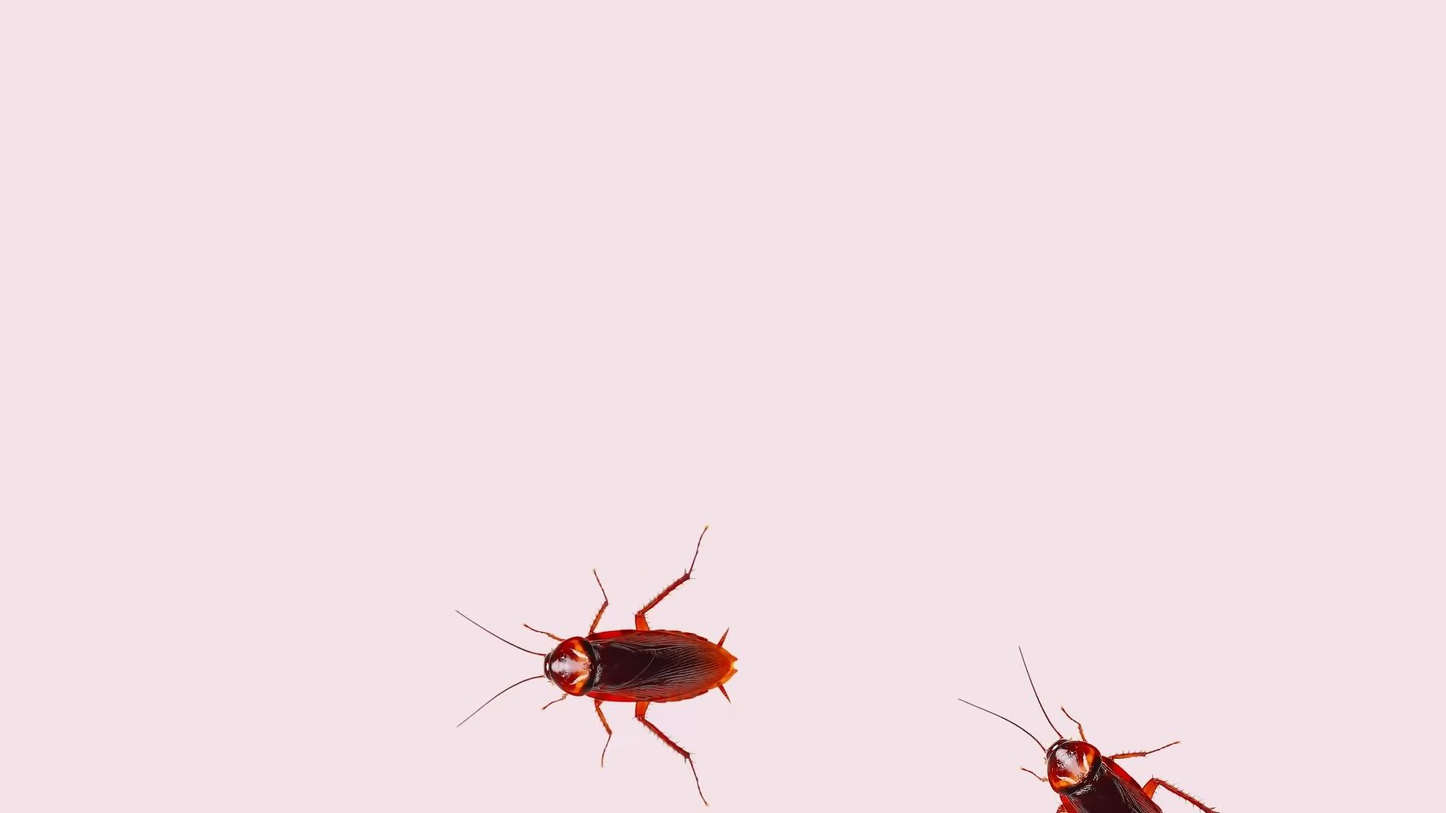cockroach: (461, 576, 741, 771), (983, 684, 1215, 813)
